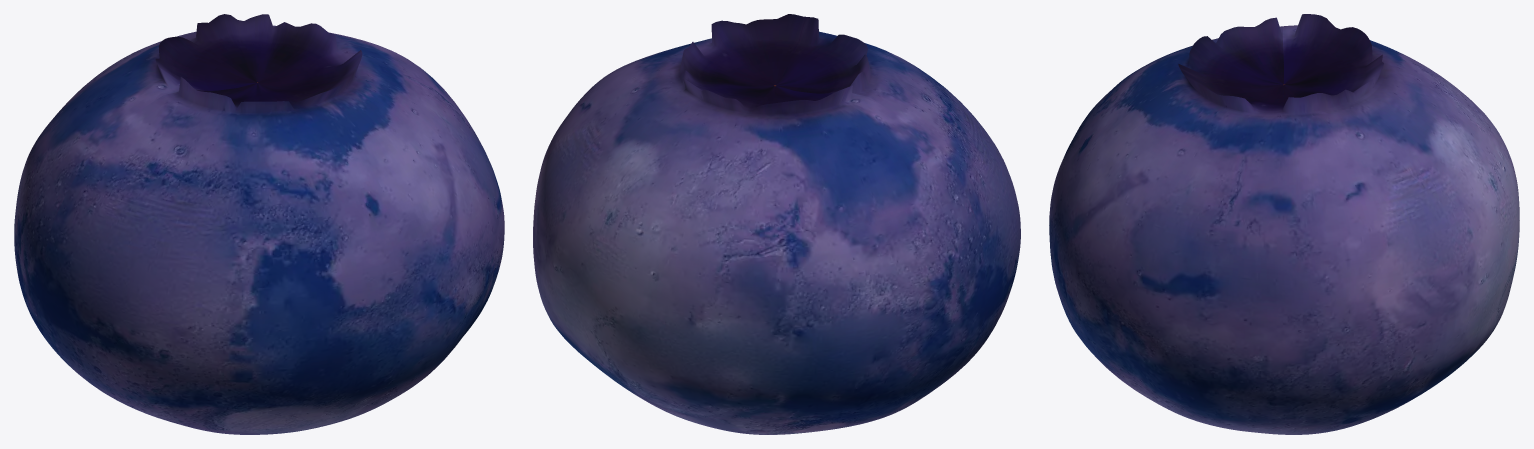
File: blueberry-1.glb
3 renders of one model, left to right at view 1: azimuth 30°, elevation 25°; view 2: azimuth 150°, elevation 25°; view 3: azimuth 270°, elevation 25°, orthographic.
Visible parts, largest first — view 1: Object_4; view 2: Object_4; view 3: Object_4.
Boxes of the visible parts, x1,y1,x2,y2 form: Object_4: (14, 14, 504, 434); Object_4: (533, 14, 1020, 434); Object_4: (1049, 14, 1519, 434).
Size of the model in its own units: 2.1 by 1.65 by 2.03.
1 material, 1 textured.
